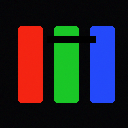3 line_h: (47, 36, 95, 42)
